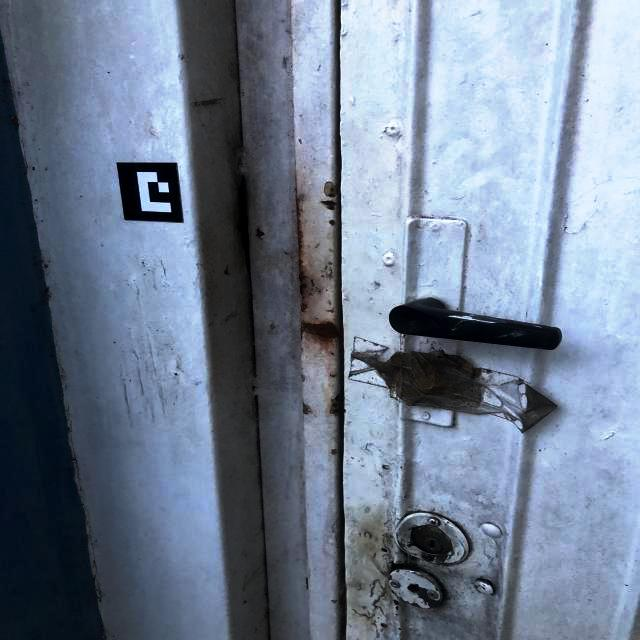Corrosion: (296, 197, 310, 296), (351, 586, 386, 620), (300, 321, 340, 343), (338, 588, 347, 614), (379, 565, 392, 582), (321, 200, 337, 210), (319, 269, 333, 279), (255, 227, 265, 240), (406, 601, 421, 608), (301, 302, 308, 312), (223, 265, 230, 274), (329, 219, 336, 226), (315, 287, 322, 294), (327, 193, 336, 197), (310, 279, 315, 286), (303, 403, 308, 410), (393, 600, 400, 605), (331, 599, 338, 604), (333, 409, 339, 414), (335, 395, 339, 402), (330, 374, 337, 378), (381, 623, 388, 627), (306, 577, 308, 591), (372, 622, 377, 627), (331, 450, 336, 454), (330, 352, 334, 356), (324, 266, 328, 270), (333, 404, 338, 407), (308, 293, 313, 296), (331, 188, 335, 191), (302, 296, 305, 300), (396, 606, 399, 610), (398, 628, 402, 630), (397, 570, 400, 572), (395, 613, 398, 615)
